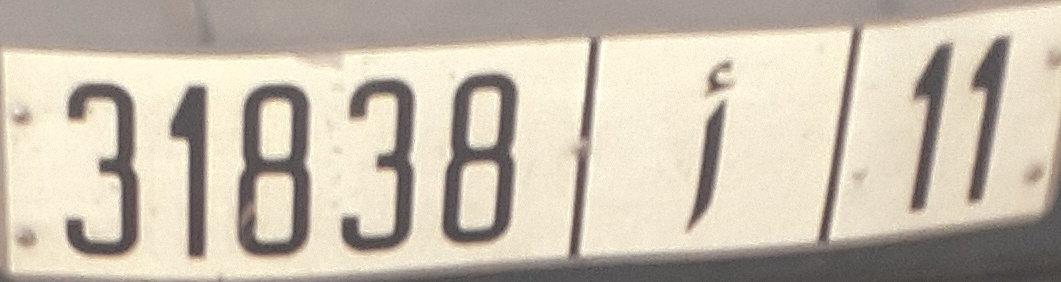1: (161, 79, 220, 265), (901, 39, 960, 215), (963, 32, 1015, 207)
3: (51, 77, 145, 260), (334, 73, 422, 255)
8: (233, 75, 317, 264), (442, 70, 520, 245)
a: (681, 55, 746, 239)
